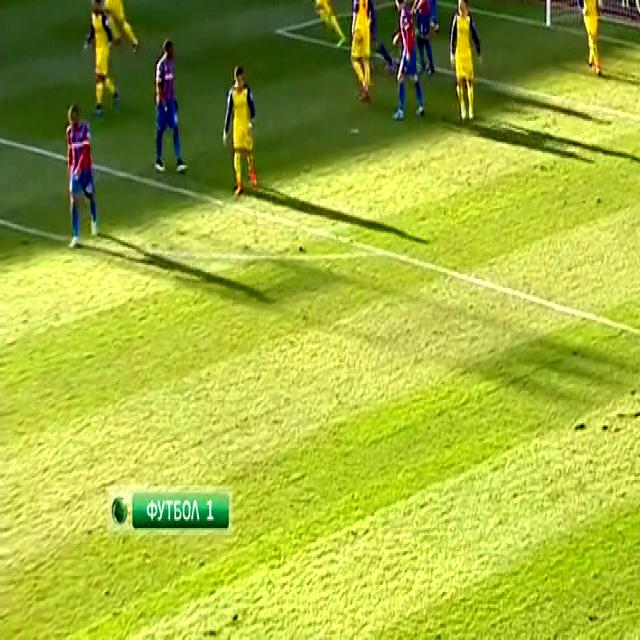soccer-player: (46, 94, 106, 246), (140, 32, 194, 184), (219, 54, 274, 194), (443, 0, 483, 139), (386, 0, 425, 130), (83, 0, 121, 124), (572, 0, 611, 82), (347, 0, 375, 101), (92, 0, 140, 50), (297, 0, 337, 39)
